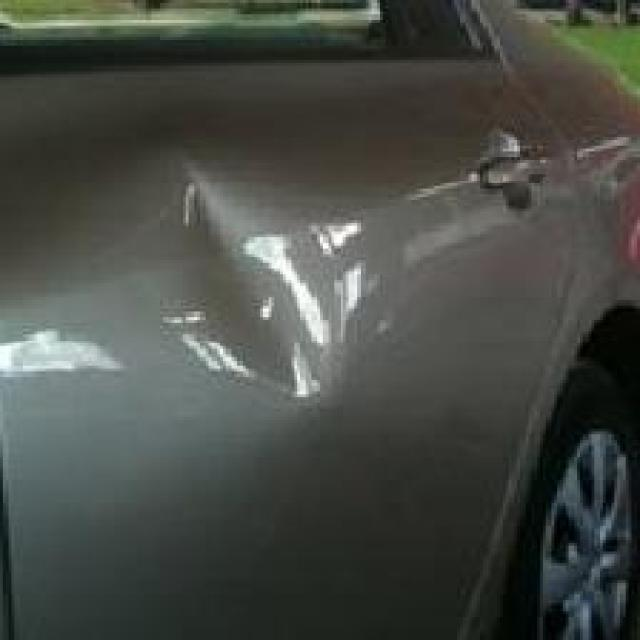damaged: (2, 177, 418, 437)
